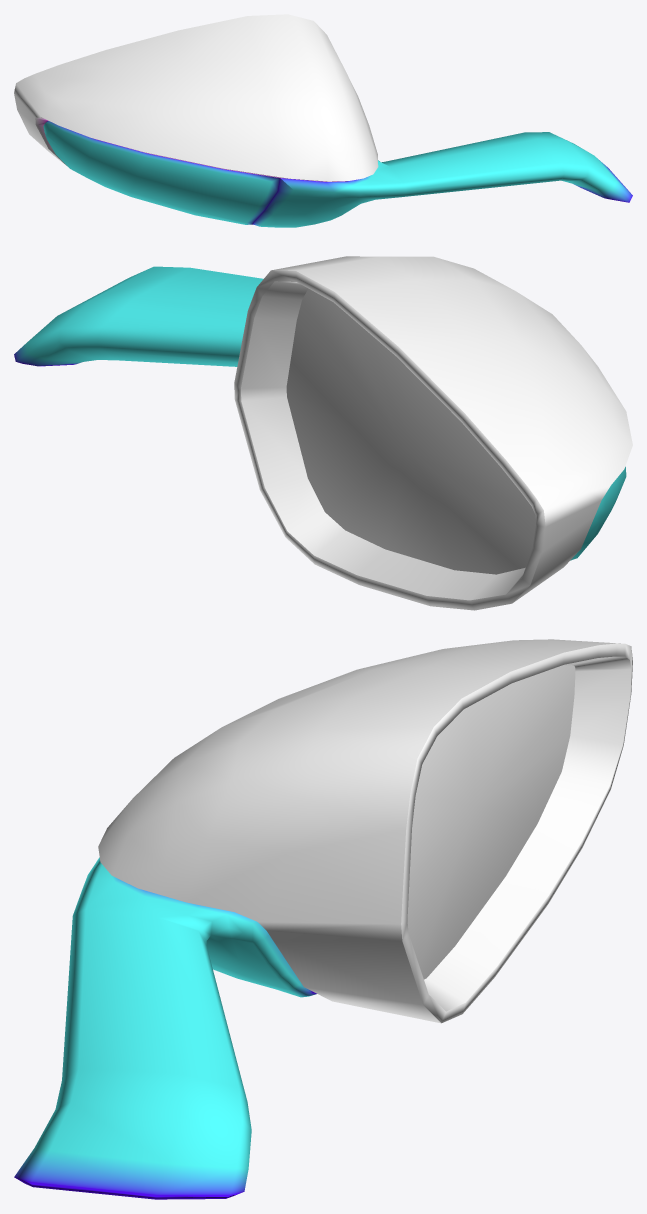
The model's file is Car_Ford_GT_2017_MirrorR_SetA.fbx.
3 views of the same model, one above another, from view 1: azimuth 30°, elevation 25°; view 2: azimuth 150°, elevation 25°; view 3: azimuth 270°, elevation 25° (orthographic). The views are drawn at different scales.
Visible parts, largest first — view 1: MirrorR 6; view 2: MirrorR 6; view 3: MirrorR 6.
Boxes of the visible parts, left/top/right/bottom form: MirrorR 6: left=14, top=14, right=632, bottom=227; MirrorR 6: left=14, top=256, right=632, bottom=610; MirrorR 6: left=14, top=639, right=632, bottom=1199.
Size of the model in its own units: 0.369 by 0.1341 by 0.2466.
